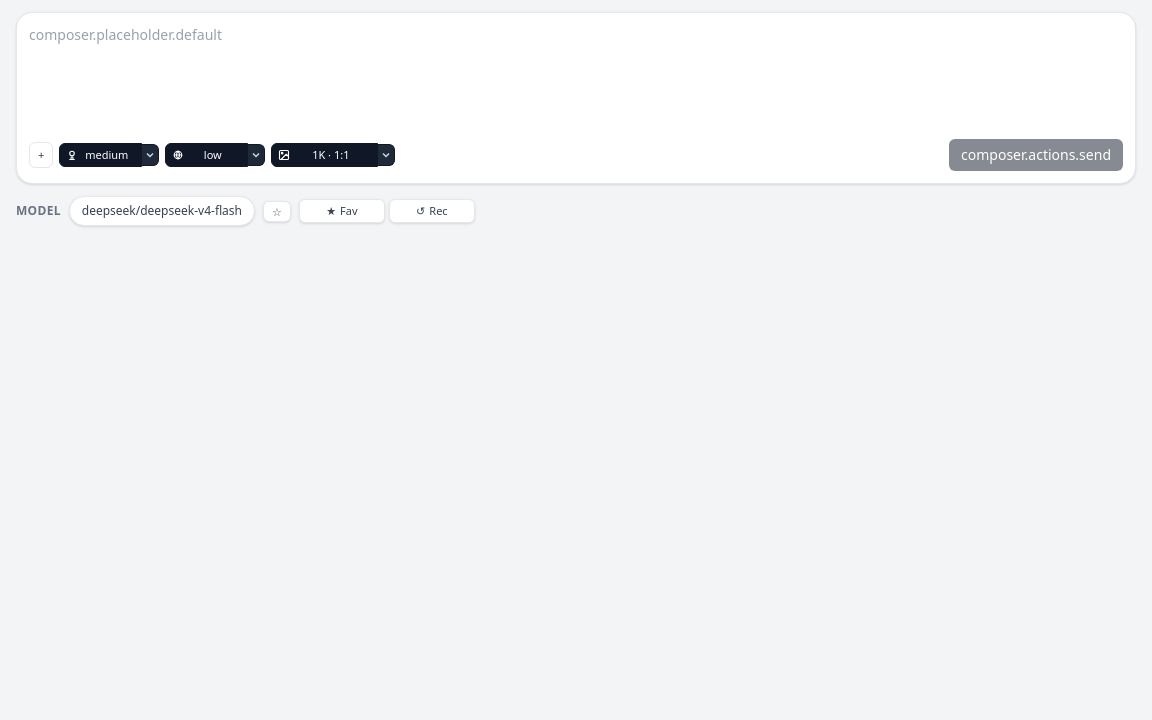
Test: ChatAppComposer model picker integration › limits current-session recents and opens picker from the model pill
Step 1. Click the button with test id "model-main-tab-recents" → (432, 211), box [389,199,475,223]
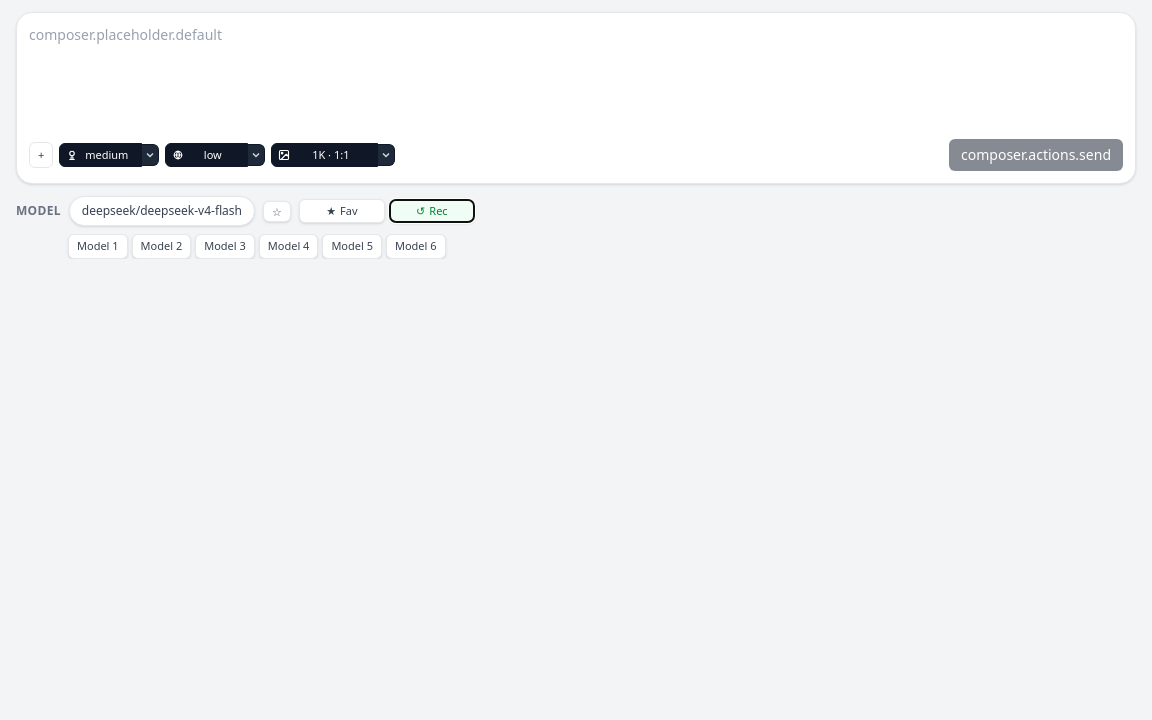
Check: the button with test id "recent-model-vendor/model-1" is shown, box [68,234,128,259]
Step 2. Click the button with test id "current-model-pill" → (162, 211), box [69,196,255,226]
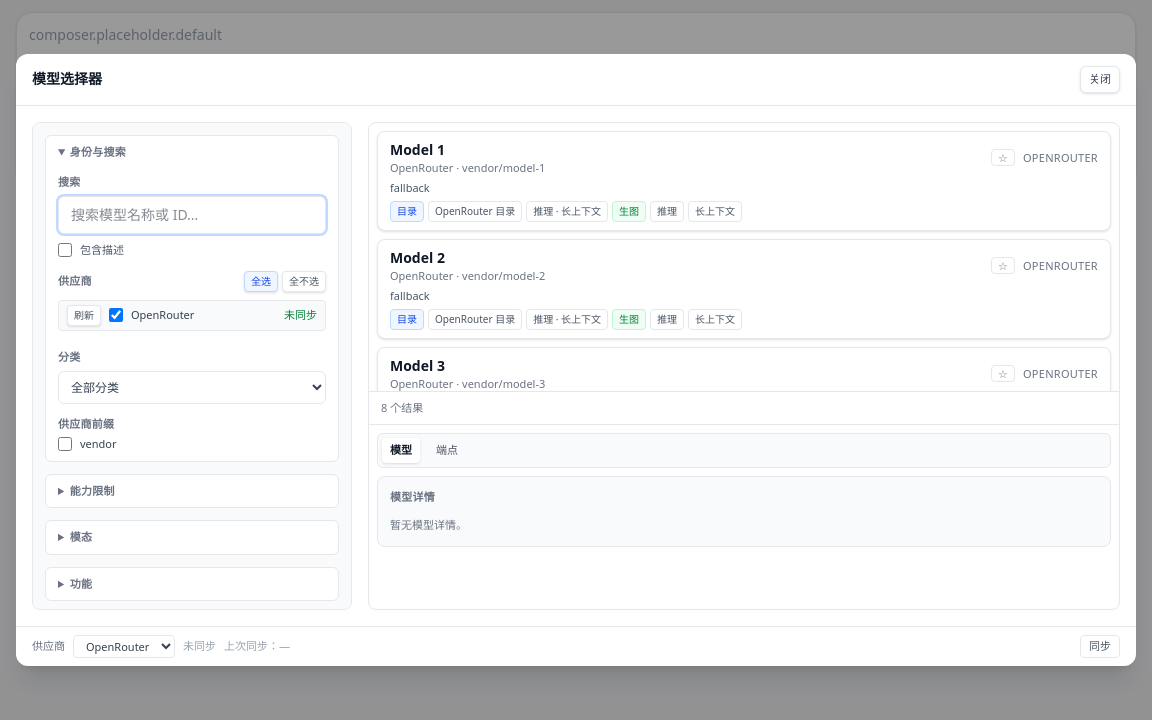
Check: the element with test id "model-picker-dialog" is shown
